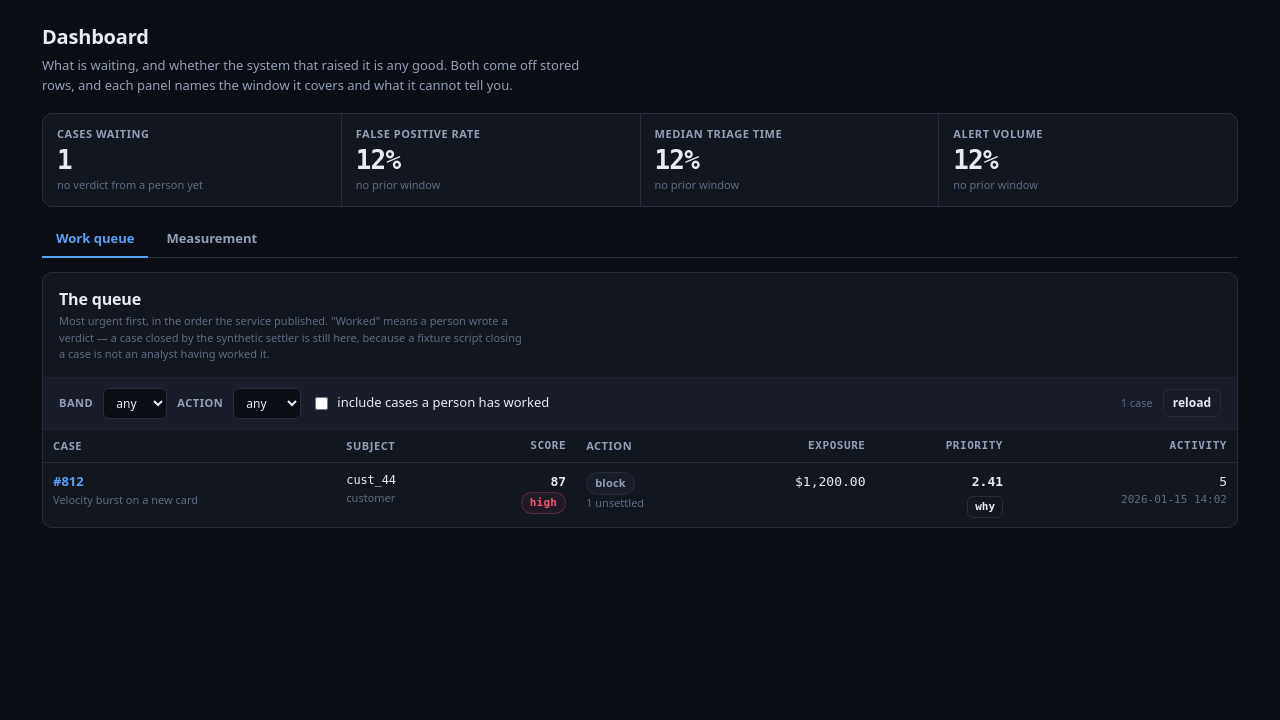
Test: the queue narrows without reordering › explains a priority on demand, with the factors multiplied out
Check: the text "#812" is shown, box x1=53 y1=472 x2=84 y2=490
Click the button "why": {"x": 985, "y": 507} x1=967 y1=496 x2=1003 y2=518
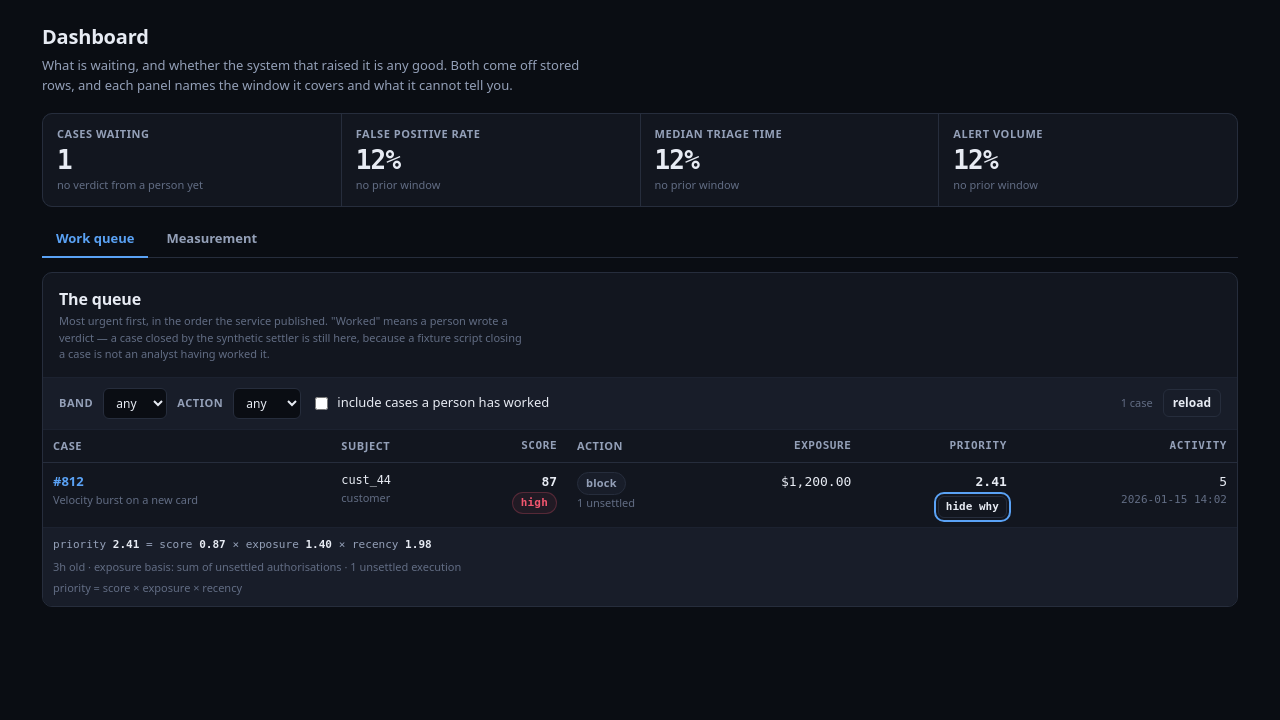
Check: the text "0.87" is shown, box x1=199 y1=538 x2=226 y2=551
Check: the text "1.40" is shown, box x1=305 y1=538 x2=332 y2=551
Check: the text "1.98" is shown, box x1=405 y1=538 x2=432 y2=551
